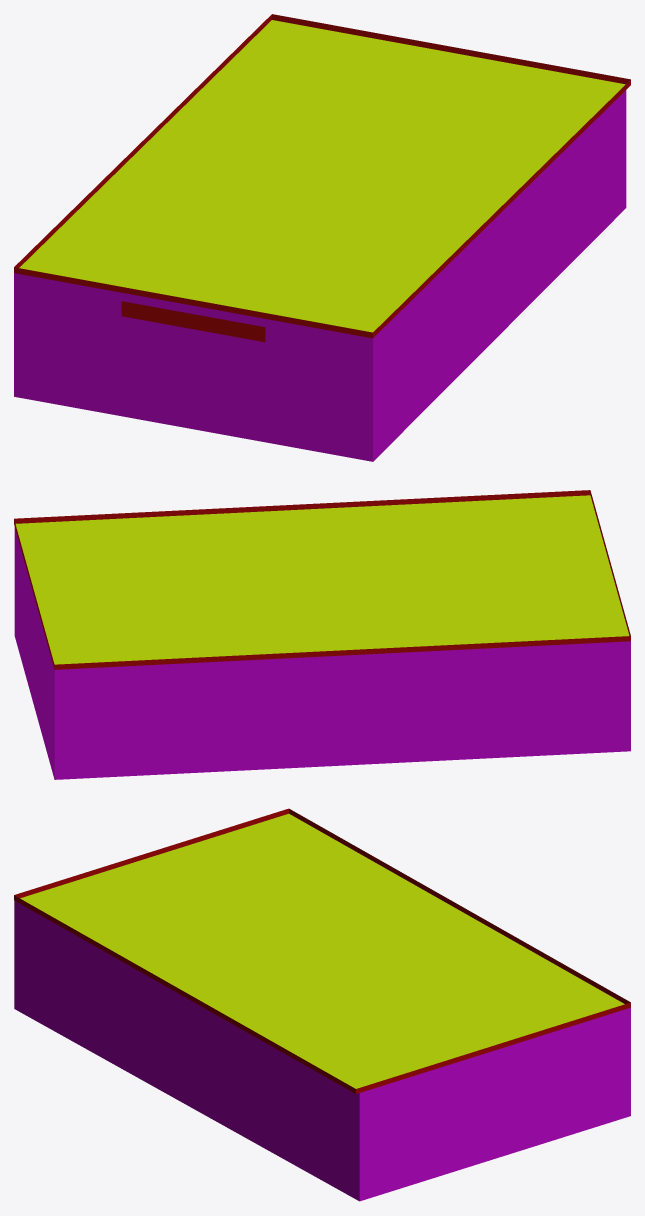
Rendered from bgj_132.glb.
3 renders of one model, top to bottom at view 1: azimuth 30°, elevation 25°; view 2: azimuth 150°, elevation 25°; view 3: azimuth 270°, elevation 25°, orthographic. The views are drawn at different scales.
Parts seen in each view (by area): view 1: bgj_132; view 2: bgj_132; view 3: bgj_132.
Boxes of the visible parts, x1=… form: bgj_132: x1=14, y1=14, x2=630, y2=461; bgj_132: x1=14, y1=490, x2=630, y2=779; bgj_132: x1=14, y1=808, x2=630, y2=1201.
Bounding box in the file's own units: 40.79 × 7.71 × 37.91.
